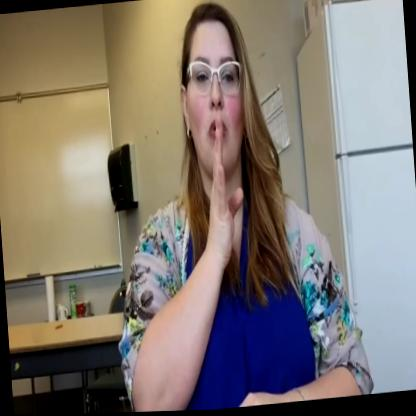Talk: (100, 0, 372, 414)
